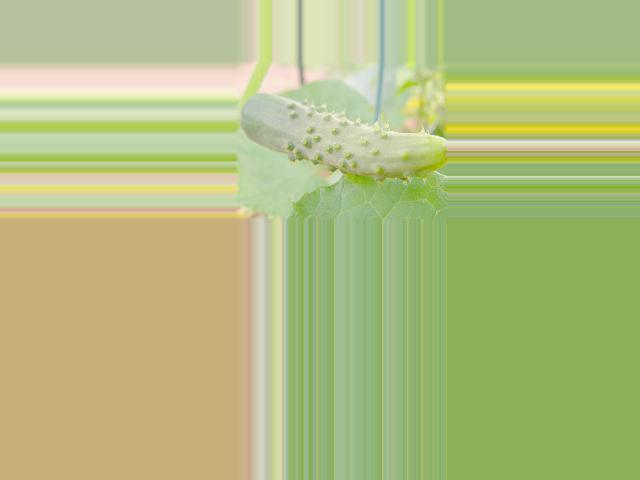cucumber: (239, 93, 446, 181)
